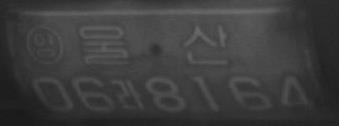0: (30, 75, 74, 113)
1: (187, 74, 228, 112)
4: (279, 74, 319, 112)
6: (229, 74, 273, 113), (74, 75, 115, 113)
8: (145, 75, 187, 114)
라: (115, 76, 145, 111)
영: (24, 24, 64, 65)
울산_D: (78, 22, 230, 66)
